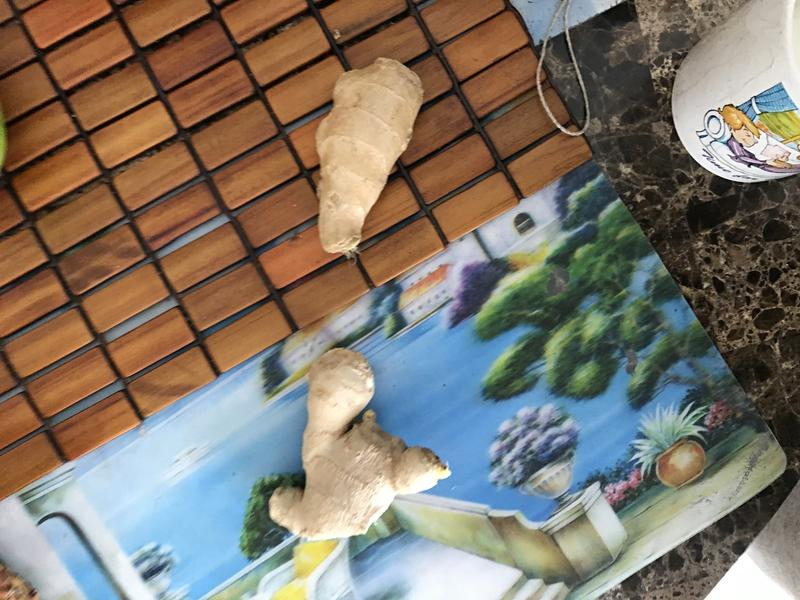ginger: (264, 343, 456, 547), (306, 48, 430, 267)
